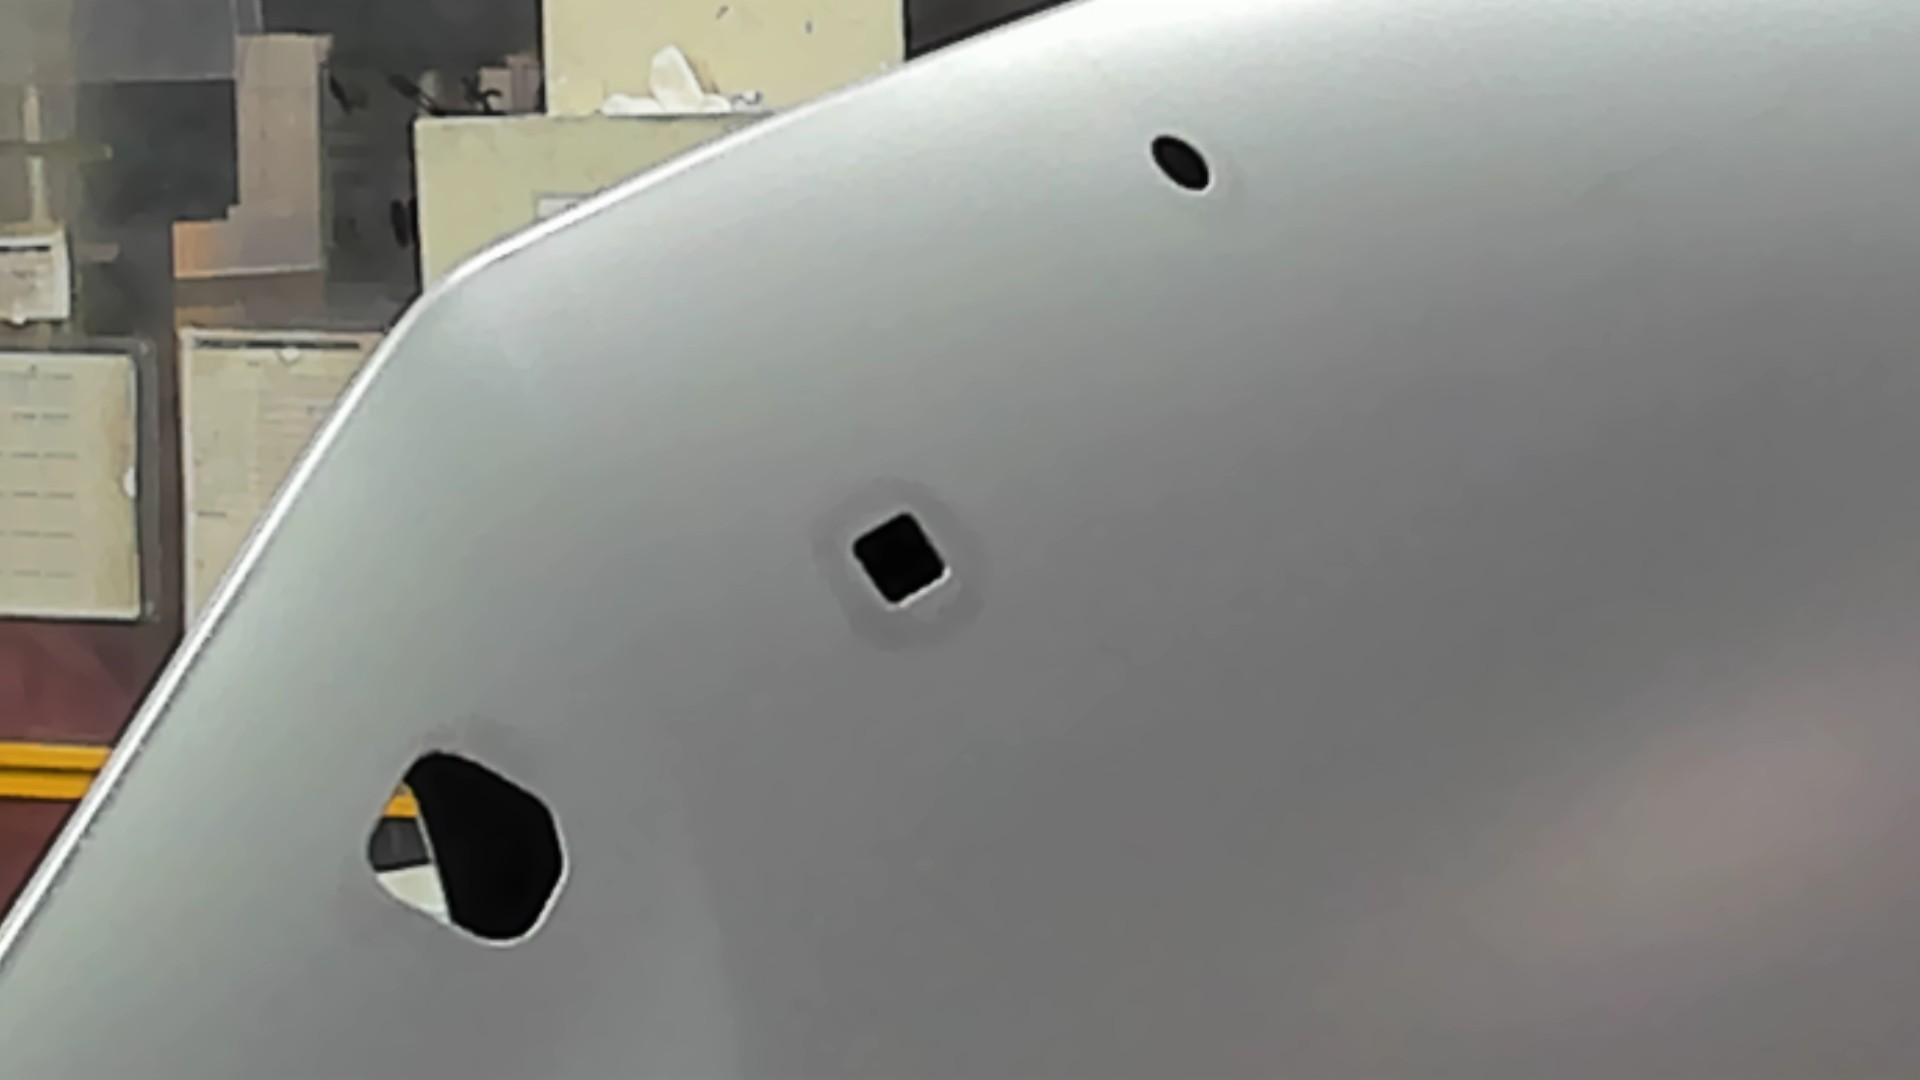chico: (1147, 129, 1216, 200)
grande: (361, 746, 570, 949)
mediano: (843, 502, 956, 618)
